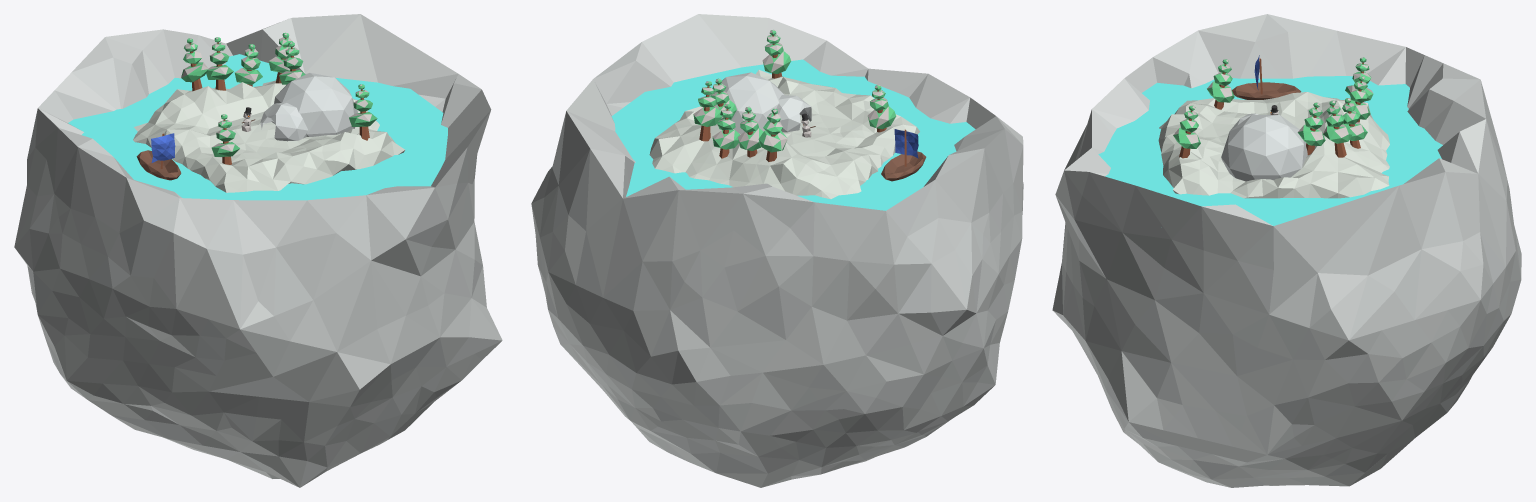
Rendered from NorthPole.glb.
3 views of the same model, side by side, from view 1: azimuth 30°, elevation 25°; view 2: azimuth 150°, elevation 25°; view 3: azimuth 270°, elevation 25° (orthographic).
Visible parts, largest first — view 1: Plane, Cube, Icosphere.001, Icosphere.002, Tree3.005, Tree3.004, Tree3.001, Icosphere.011, Tree3.003, Tree3.007, Plane.001, Tree3.002 (+1 smaller); view 2: Plane, Cube, Icosphere.001, Icosphere.002, Tree3.006, Tree3.005, Tree3.004, Tree3.007, Icosphere.011, Tree3.003, Tree3.001, Plane.001; view 3: Plane, Cube, Icosphere.001, Icosphere.011, Tree3.006, Tree3.004, Tree3.003, Tree3.002, Tree3.007, Tree3.001.
Part boxes in pixels (x1,y1,x2,y2): Plane: [14, 14, 502, 487]; Cube: [133, 73, 404, 192]; Icosphere.001: [271, 73, 357, 136]; Icosphere.002: [260, 102, 307, 141]; Tree3.005: [181, 38, 208, 91]; Tree3.004: [349, 84, 377, 140]; Tree3.001: [206, 37, 233, 90]; Icosphere.011: [136, 150, 181, 180]; Tree3.003: [211, 114, 239, 164]; Tree3.007: [234, 44, 262, 86]; Plane.001: [151, 133, 175, 162]; Tree3.002: [279, 42, 305, 84]; Plane: [531, 14, 1023, 487]; Cube: [649, 70, 919, 199]; Icosphere.001: [709, 72, 784, 134]; Icosphere.002: [776, 95, 811, 132]; Tree3.006: [693, 81, 721, 141]; Tree3.005: [758, 108, 787, 161]; Tree3.004: [762, 30, 790, 78]; Tree3.007: [712, 104, 739, 158]; Icosphere.011: [881, 151, 926, 181]; Tree3.003: [867, 85, 896, 132]; Tree3.001: [738, 106, 763, 157]; Plane.001: [894, 129, 918, 158]; Plane: [1052, 14, 1521, 487]; Cube: [1158, 92, 1389, 198]; Icosphere.001: [1221, 115, 1307, 181]; Icosphere.011: [1232, 82, 1301, 99]; Tree3.006: [1323, 100, 1352, 157]; Tree3.004: [1173, 105, 1200, 158]; Tree3.003: [1207, 59, 1234, 109]; Tree3.002: [1297, 102, 1325, 155]; Tree3.007: [1342, 98, 1367, 148]; Tree3.001: [1343, 76, 1370, 122].
Size of the model in its own units: 284 by 245 by 265.
